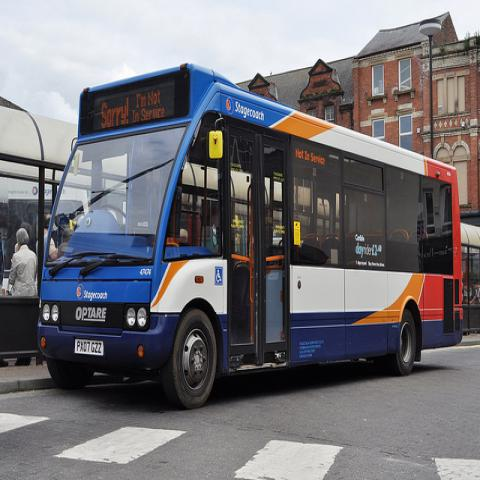bus: (33, 64, 466, 403)
